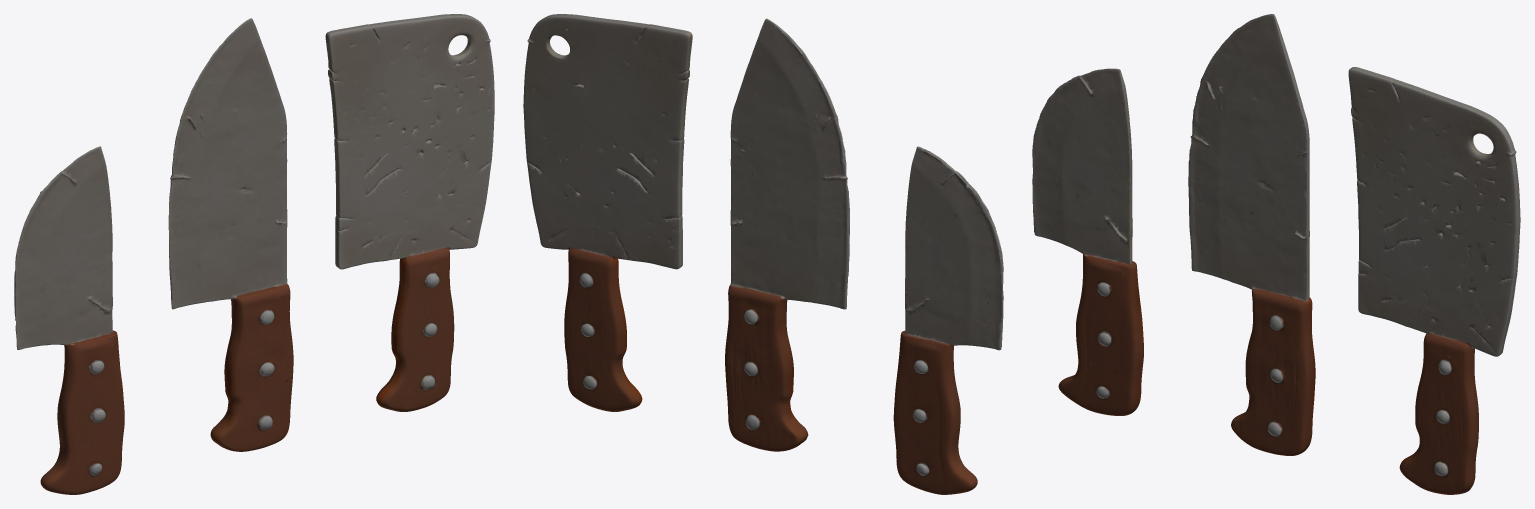
The model's file is 9. butcher knive.glb.
3 renders of one model, left to right at view 1: azimuth 30°, elevation 25°; view 2: azimuth 150°, elevation 25°; view 3: azimuth 330°, elevation 25°, orthographic.
Visible parts, largest first — view 1: tripo_node_84455458-d93e-4e57-81f5-9f21b9e8d69e; view 2: tripo_node_84455458-d93e-4e57-81f5-9f21b9e8d69e; view 3: tripo_node_84455458-d93e-4e57-81f5-9f21b9e8d69e.
Boxes of the visible parts, <box> form: tripo_node_84455458-d93e-4e57-81f5-9f21b9e8d69e: <box>14,14,494,494</box>; tripo_node_84455458-d93e-4e57-81f5-9f21b9e8d69e: <box>523,14,1003,494</box>; tripo_node_84455458-d93e-4e57-81f5-9f21b9e8d69e: <box>1032,14,1520,494</box>.
Size of the model in its own units: 1 by 0.8647 by 0.0613.
1 material, 1 textured.
